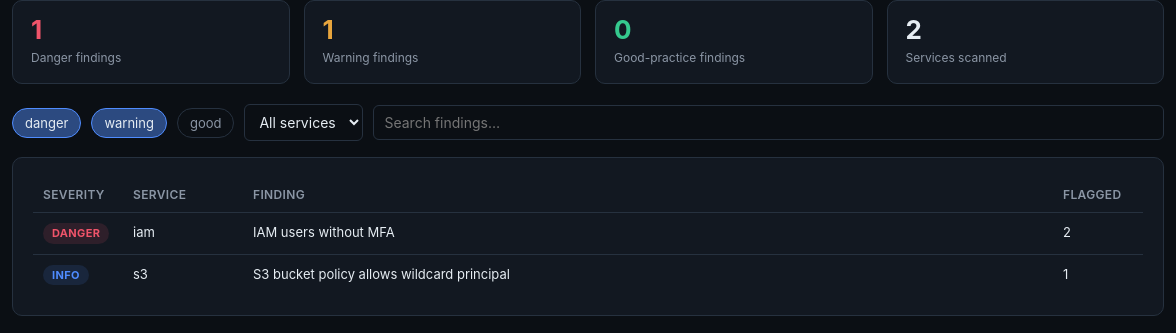
Test case: FindingsView › toggling off the danger filter hides danger findings
Click the button "danger".
click(47, 122)  # box x1=12 y1=108 x2=81 y2=138
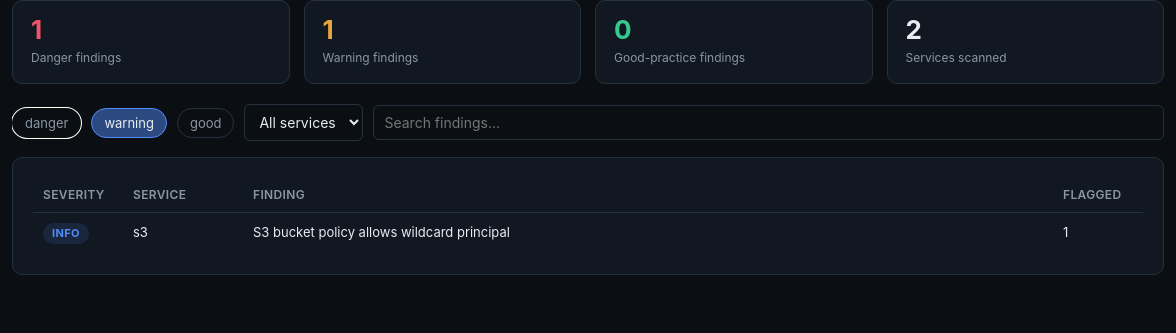
Expected: the text "S3 bucket policy allows wildcard principal" is shown, x1=243 y1=212 x2=1053 y2=254
Result: the text "IAM users without MFA" is gone
